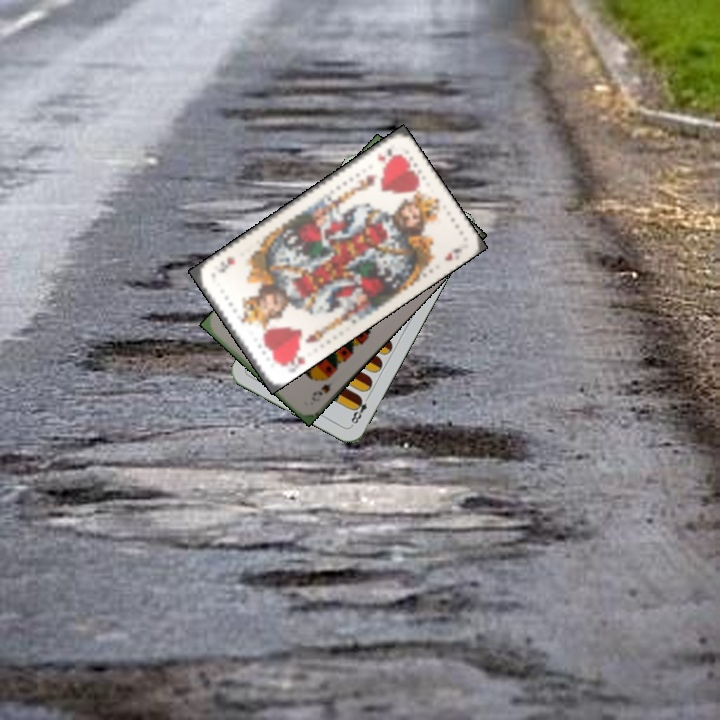E8: (347, 391, 373, 428)
HK: (373, 140, 401, 164), (289, 345, 309, 369)
S9: (307, 378, 335, 405)
